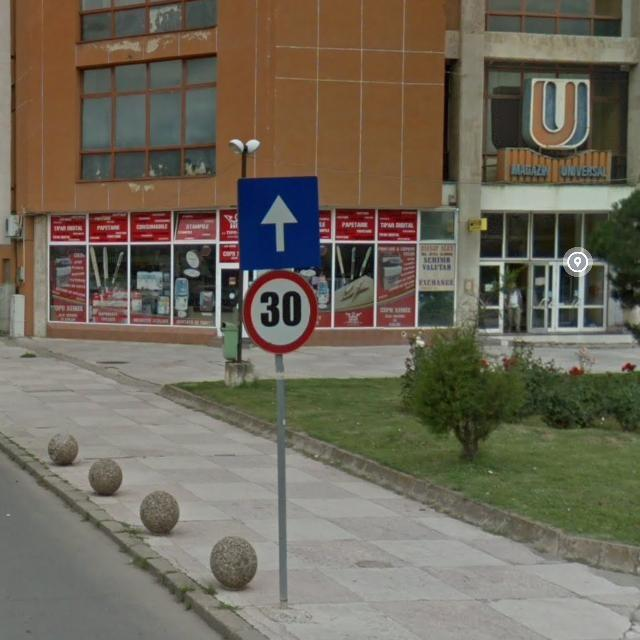forb_speed_over_30: (245, 272, 318, 355)
